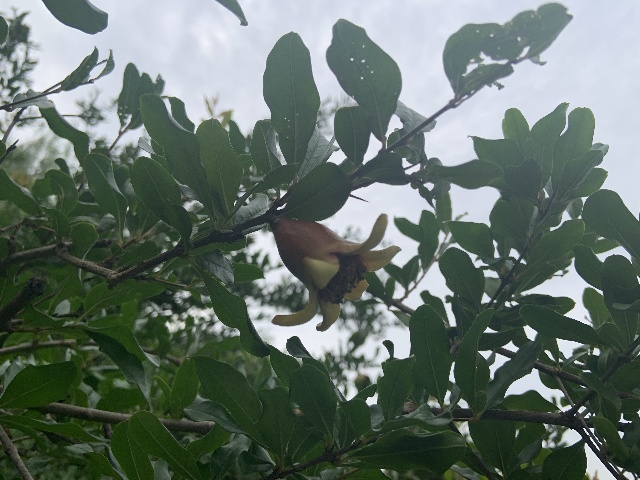early-fruit: (271, 214, 402, 331)
